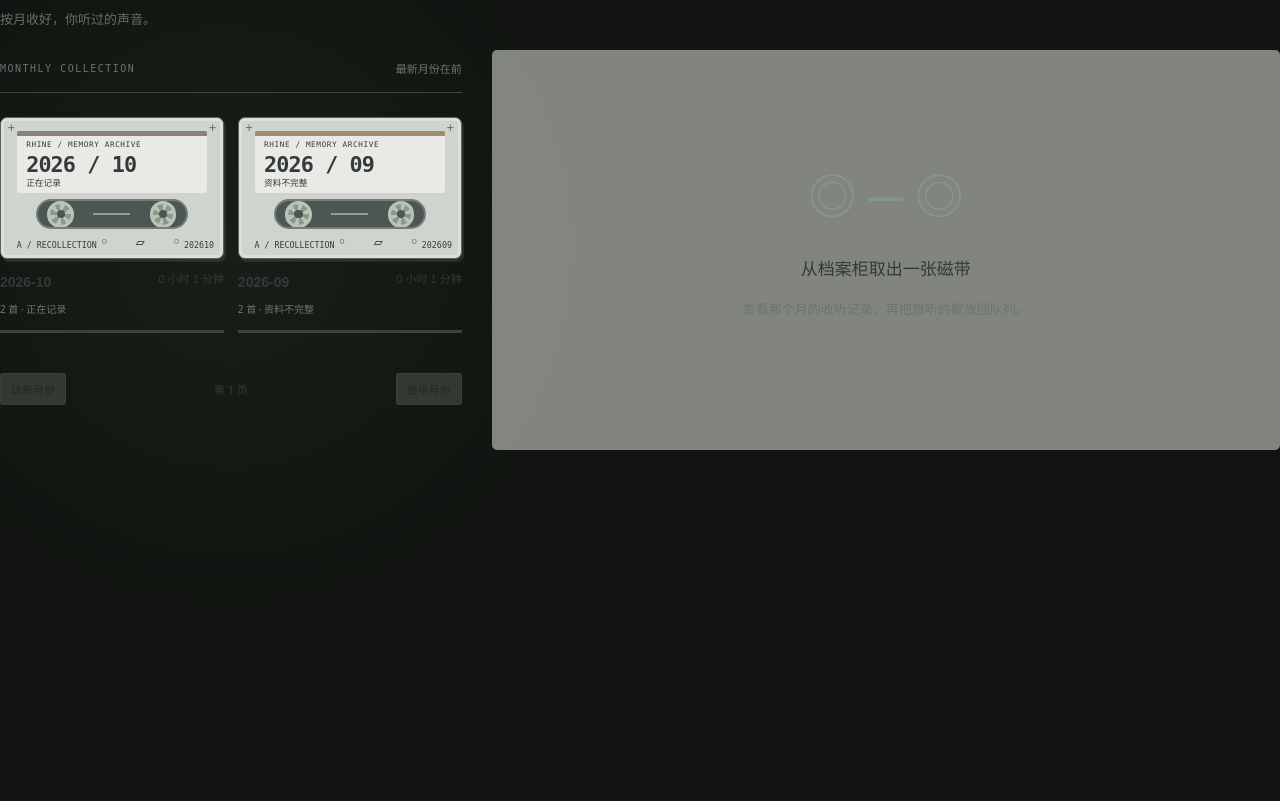
Test: 本页入队排除失效曲目且不启动播放，回放等待队列确认
Click the button with aria-label "打开 2026-10".
click(112, 225)  # box [0, 117, 224, 333]
(page scrolled)
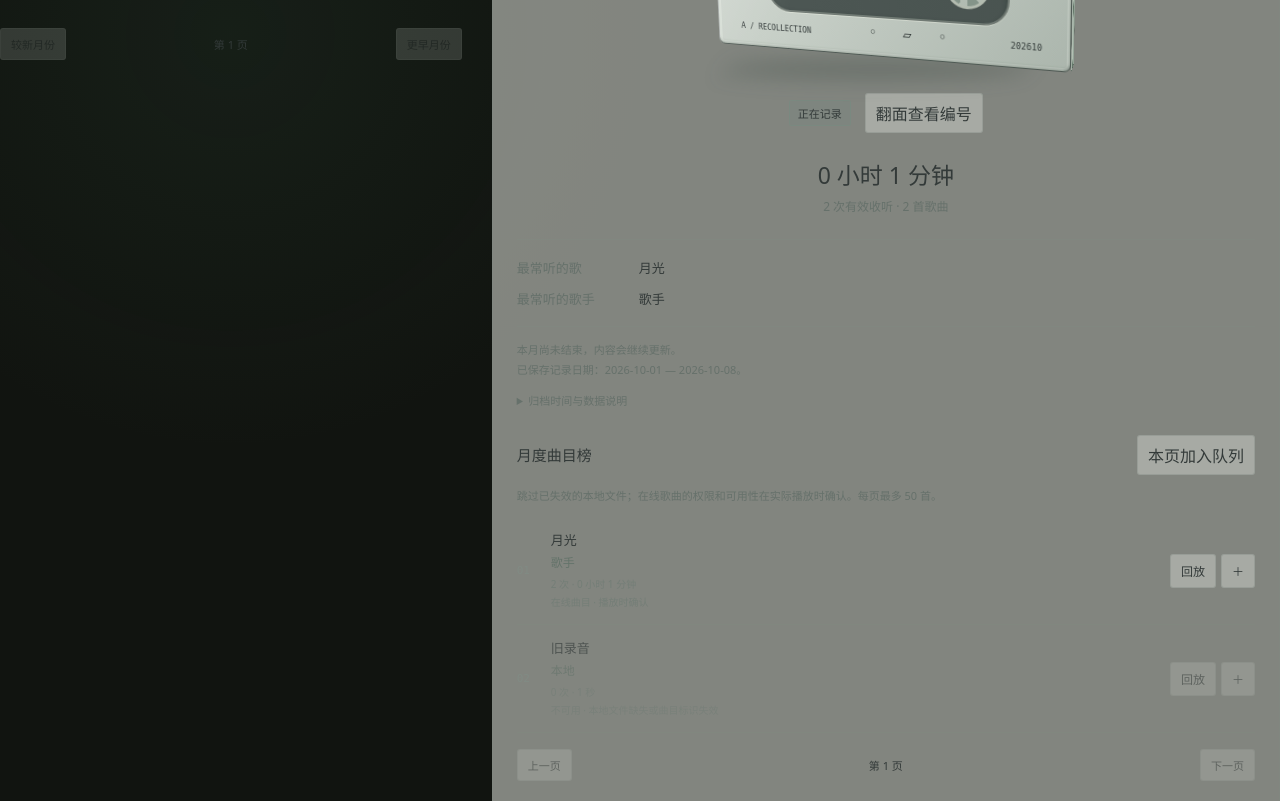
expect the button with aria-label "回放 月光" is shown: met, box [1170, 554, 1216, 588]
Click the button "本页加入队列".
click(1196, 455)  # box [1137, 435, 1255, 475]
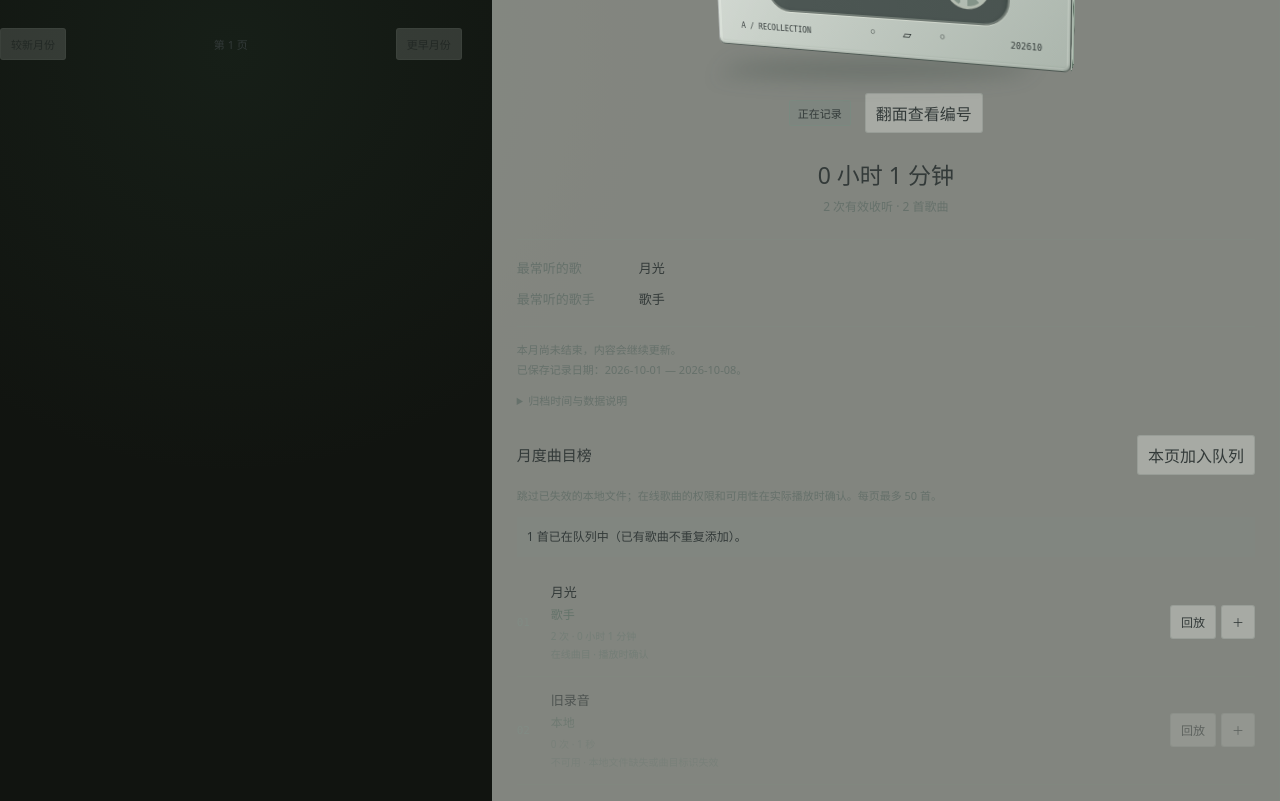
expect the text "1 首已在队列中（已有歌曲不重复添加）。" is shown: met, box [517, 517, 1255, 557]
Click the button with aria-label "回放 月光".
click(1193, 622)  # box [1170, 605, 1216, 639]
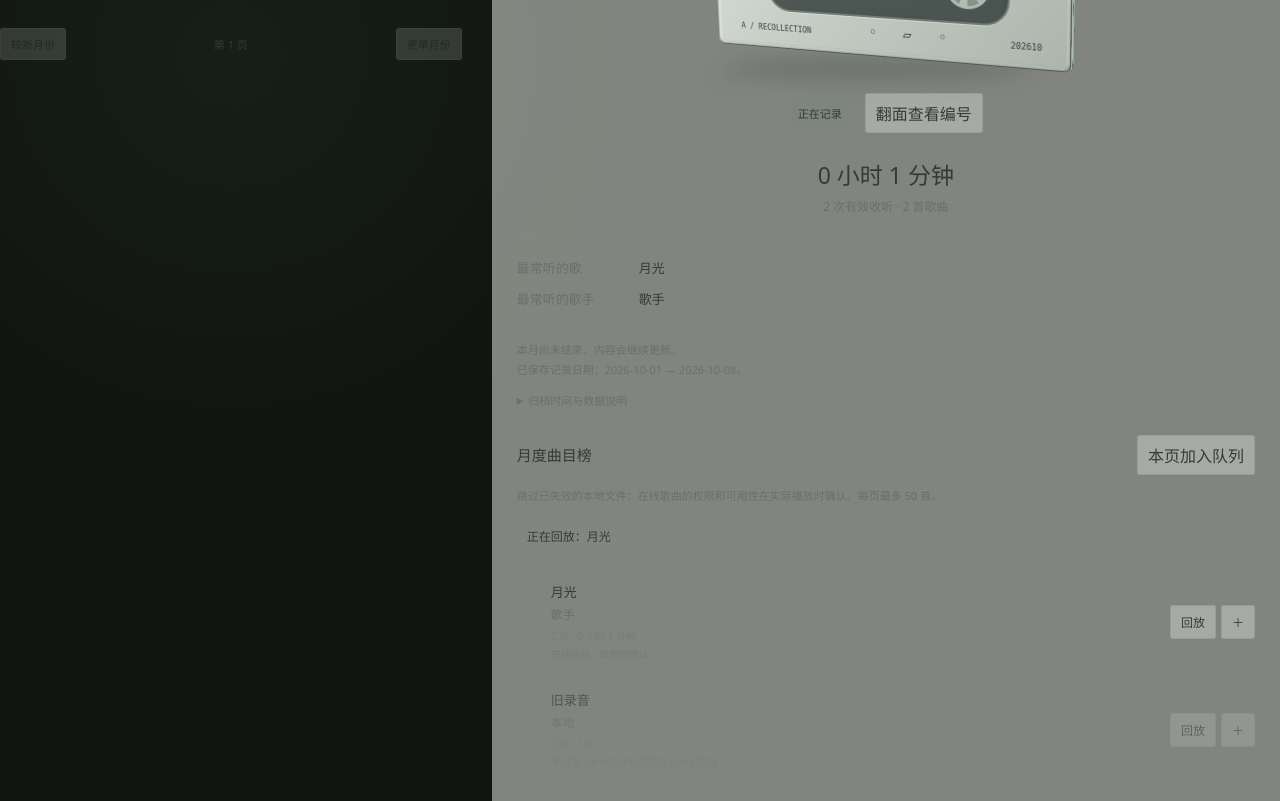
expect the text "正在回放：月光" is shown: met, box [517, 517, 1255, 557]
